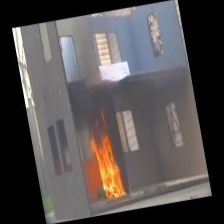fire: (86, 121, 129, 203)
